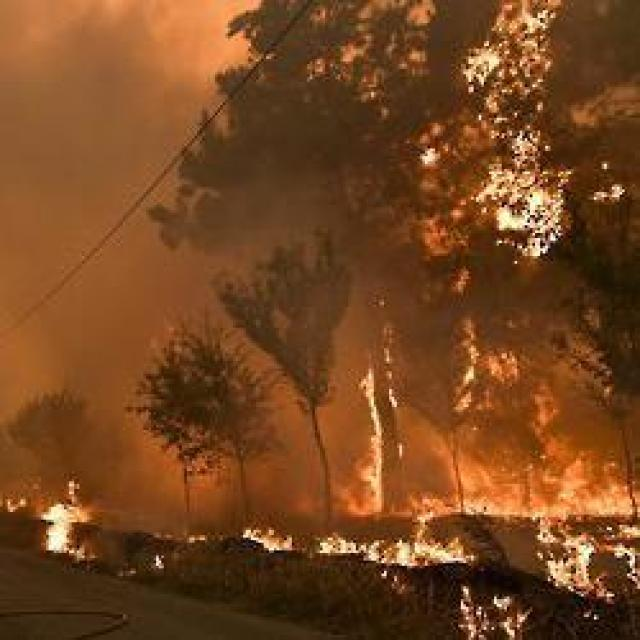Fire: (538, 440, 640, 600), (240, 518, 482, 574), (36, 481, 94, 560), (356, 369, 386, 514), (458, 583, 527, 640)
